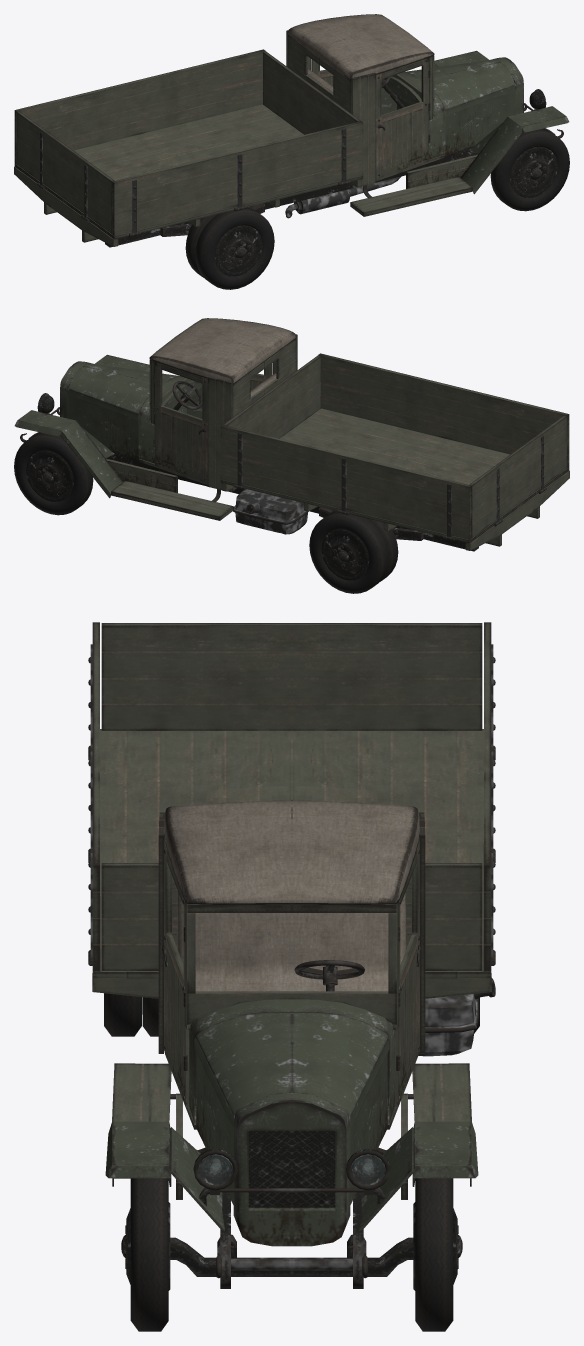
File: zis-5b.glb
3 renders of one model, top to bottom at view 1: azimuth 30°, elevation 25°; view 2: azimuth 150°, elevation 25°; view 3: azimuth 270°, elevation 25°, orthographic. The views are drawn at different scales.
Visible parts, largest first — view 1: Zis; view 2: Zis; view 3: Zis.
Boxes of the visible parts, box(x1,y1,x2,y2) form: Zis: box(14, 14, 569, 289); Zis: box(14, 318, 569, 593); Zis: box(88, 622, 495, 1331).
Bounding box in the file's own units: 6.11 × 2.17 × 2.23.
1 material, 1 textured.
